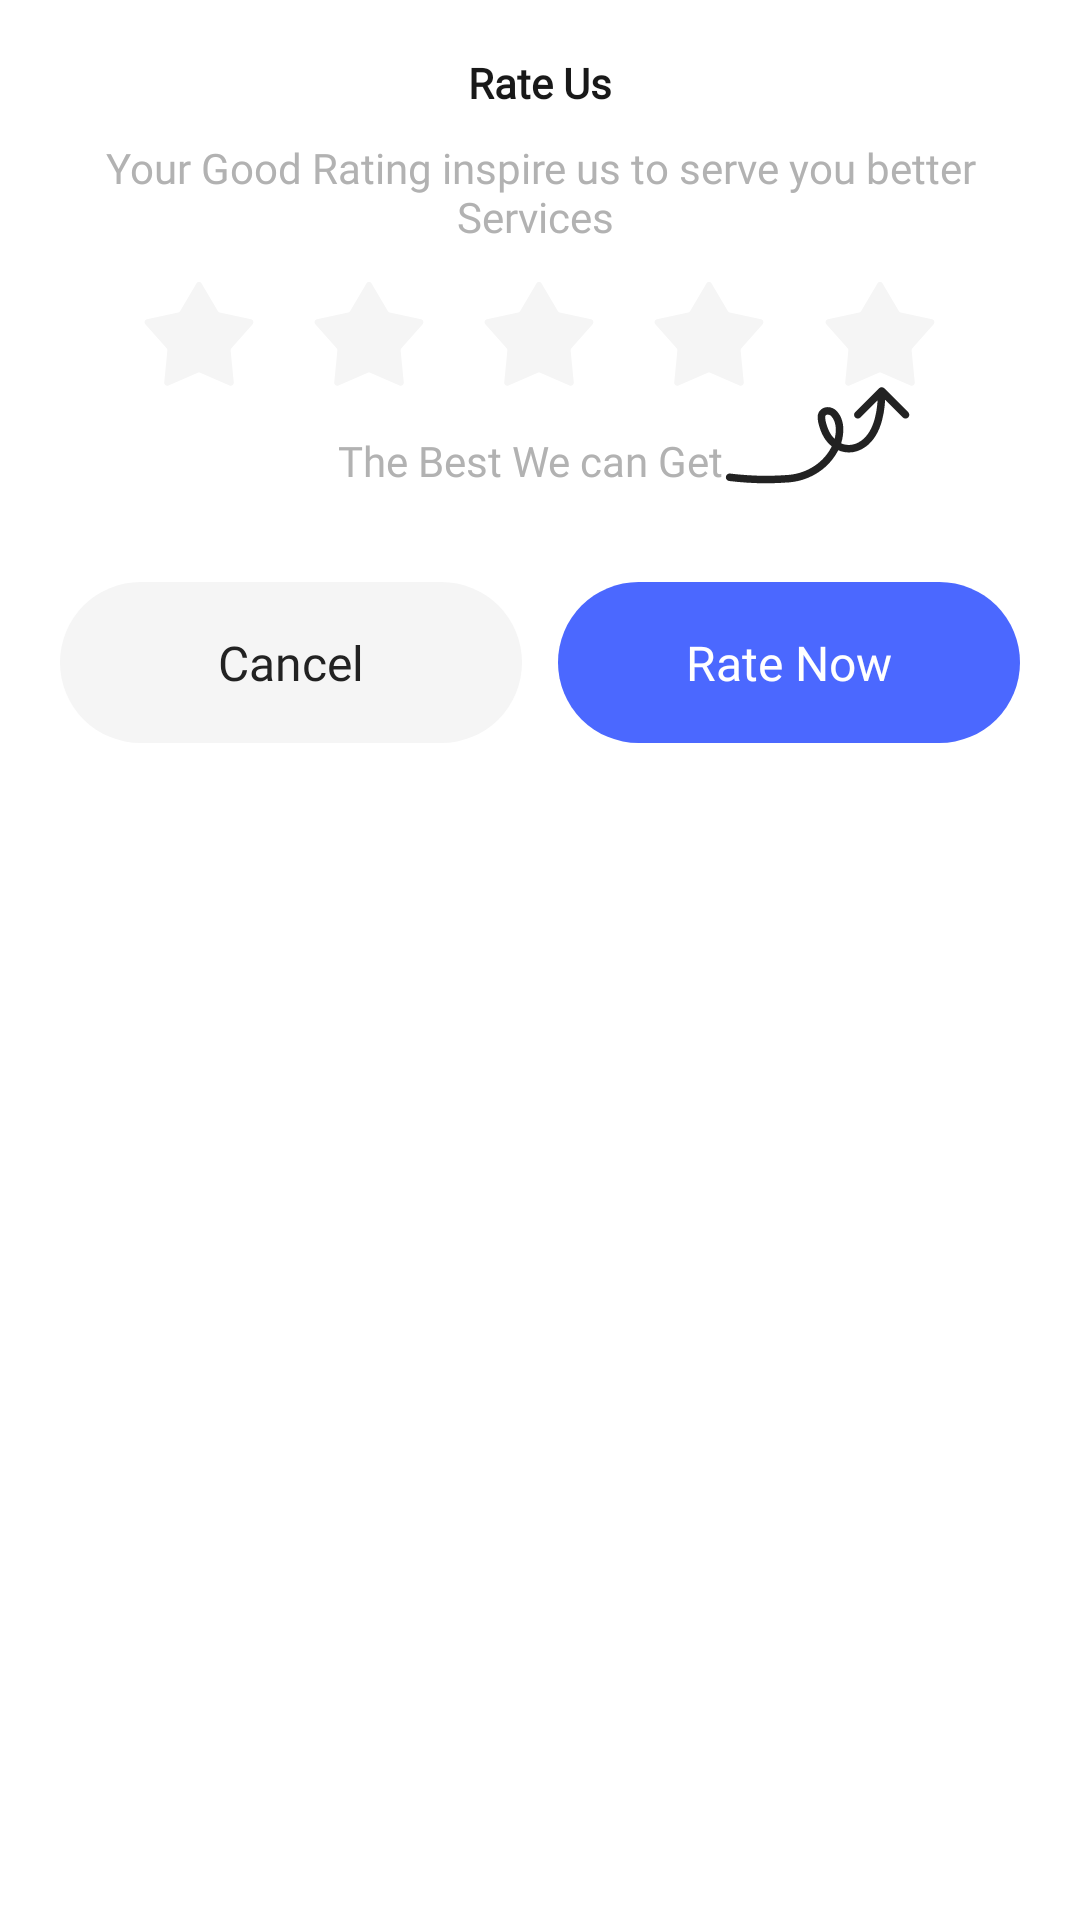

Icon click points for this 1080×1920 phone screenshot, format (x,y):
rating arrow: (818,435)
